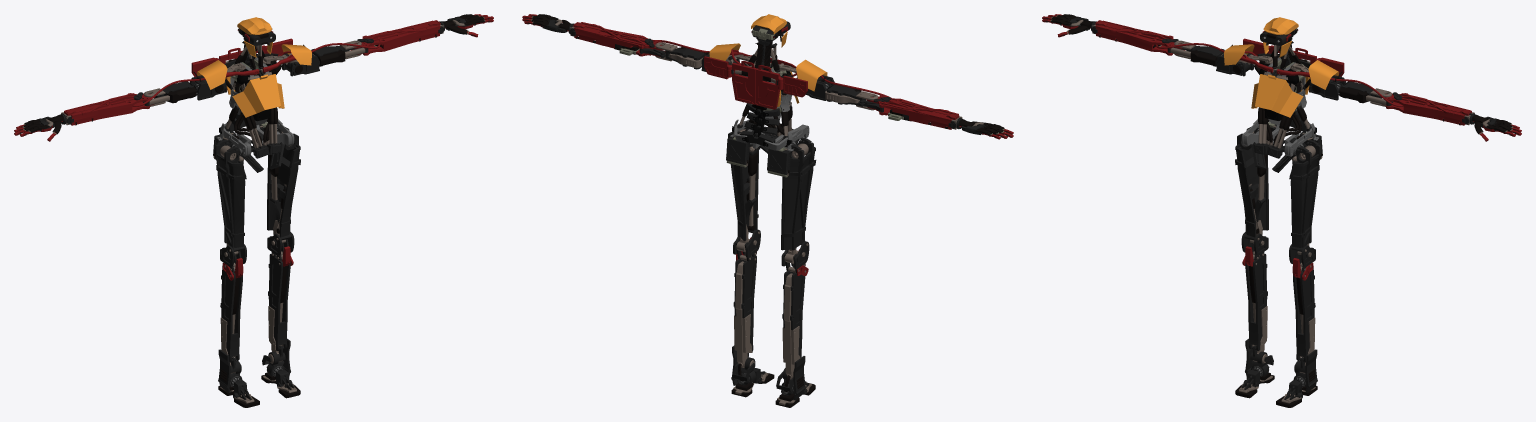
Rendered from for_Unit3_Cent.fbx.
The picture shows the model from 3 angles, left to right: view 1: azimuth 30°, elevation 25°; view 2: azimuth 150°, elevation 25°; view 3: azimuth 330°, elevation 25°; orthographic projection. The views are drawn at different scales.
Parts seen in each view (by area): view 1: Cain_MDL_033_wb:Cain_MDL_033_wb_000_Cain_MDL_033_wb_041, Cain_MDL_033_wb:Cain_MDL_033_wb_004_Cain_MDL_033_wb_045, Cain_MDL_033_wb:Cain_MDL_033_wb_002_Cain_MDL_033_wb_043, Cain_MDL_033_wb:Cain_MDL_033_wb_003_Cain_MDL_033_wb_044, Cain_MDL_033_wb:Cain_MDL_033_wb_005_Cain_MDL_033_wb_046, Cain_MDL_033_wb:Cain_MDL_033_wb_001_Cain_MDL_033_wb_042; view 2: Cain_MDL_033_wb:Cain_MDL_033_wb_000_Cain_MDL_033_wb_041, Cain_MDL_033_wb:Cain_MDL_033_wb_004_Cain_MDL_033_wb_045, Cain_MDL_033_wb:Cain_MDL_033_wb_003_Cain_MDL_033_wb_044, Cain_MDL_033_wb:Cain_MDL_033_wb_002_Cain_MDL_033_wb_043, Cain_MDL_033_wb:Cain_MDL_033_wb_005_Cain_MDL_033_wb_046, Cain_MDL_033_wb:Cain_MDL_033_wb_001_Cain_MDL_033_wb_042, Cain_MDL_033_wb:Cain_MDL_033_wb_007_Cain_MDL_033_wb_048, Cain_MDL_033_wb:Cain_MDL_033_wb_006_Cain_MDL_033_wb_047; view 3: Cain_MDL_033_wb:Cain_MDL_033_wb_000_Cain_MDL_033_wb_041, Cain_MDL_033_wb:Cain_MDL_033_wb_004_Cain_MDL_033_wb_045, Cain_MDL_033_wb:Cain_MDL_033_wb_002_Cain_MDL_033_wb_043, Cain_MDL_033_wb:Cain_MDL_033_wb_003_Cain_MDL_033_wb_044, Cain_MDL_033_wb:Cain_MDL_033_wb_005_Cain_MDL_033_wb_046, Cain_MDL_033_wb:Cain_MDL_033_wb_001_Cain_MDL_033_wb_042.
Boxes of the visible parts, x1,y1,x2,y2 form: Cain_MDL_033_wb:Cain_MDL_033_wb_000_Cain_MDL_033_wb_041: (19,16,489,399); Cain_MDL_033_wb:Cain_MDL_033_wb_004_Cain_MDL_033_wb_045: (14,14,493,280); Cain_MDL_033_wb:Cain_MDL_033_wb_002_Cain_MDL_033_wb_043: (23,14,484,407); Cain_MDL_033_wb:Cain_MDL_033_wb_003_Cain_MDL_033_wb_044: (46,19,464,403); Cain_MDL_033_wb:Cain_MDL_033_wb_005_Cain_MDL_033_wb_046: (197,17,311,117); Cain_MDL_033_wb:Cain_MDL_033_wb_001_Cain_MDL_033_wb_042: (195,57,294,386); Cain_MDL_033_wb:Cain_MDL_033_wb_000_Cain_MDL_033_wb_041: (526,16,1008,400); Cain_MDL_033_wb:Cain_MDL_033_wb_004_Cain_MDL_033_wb_045: (522,14,1013,275); Cain_MDL_033_wb:Cain_MDL_033_wb_003_Cain_MDL_033_wb_044: (555,19,983,405); Cain_MDL_033_wb:Cain_MDL_033_wb_002_Cain_MDL_033_wb_043: (531,14,1003,407); Cain_MDL_033_wb:Cain_MDL_033_wb_005_Cain_MDL_033_wb_046: (709,14,827,106); Cain_MDL_033_wb:Cain_MDL_033_wb_001_Cain_MDL_033_wb_042: (730,64,828,393); Cain_MDL_033_wb:Cain_MDL_033_wb_007_Cain_MDL_033_wb_048: (531,14,1004,177); Cain_MDL_033_wb:Cain_MDL_033_wb_006_Cain_MDL_033_wb_047: (732,67,792,146); Cain_MDL_033_wb:Cain_MDL_033_wb_000_Cain_MDL_033_wb_041: (1046,16,1516,399); Cain_MDL_033_wb:Cain_MDL_033_wb_004_Cain_MDL_033_wb_045: (1042,14,1521,280); Cain_MDL_033_wb:Cain_MDL_033_wb_002_Cain_MDL_033_wb_043: (1051,14,1512,407); Cain_MDL_033_wb:Cain_MDL_033_wb_003_Cain_MDL_033_wb_044: (1071,19,1489,403); Cain_MDL_033_wb:Cain_MDL_033_wb_005_Cain_MDL_033_wb_046: (1224,17,1338,117); Cain_MDL_033_wb:Cain_MDL_033_wb_001_Cain_MDL_033_wb_042: (1241,57,1340,386).
Bounding box in the file's own units: 2.74 × 2.02 × 0.3324.
